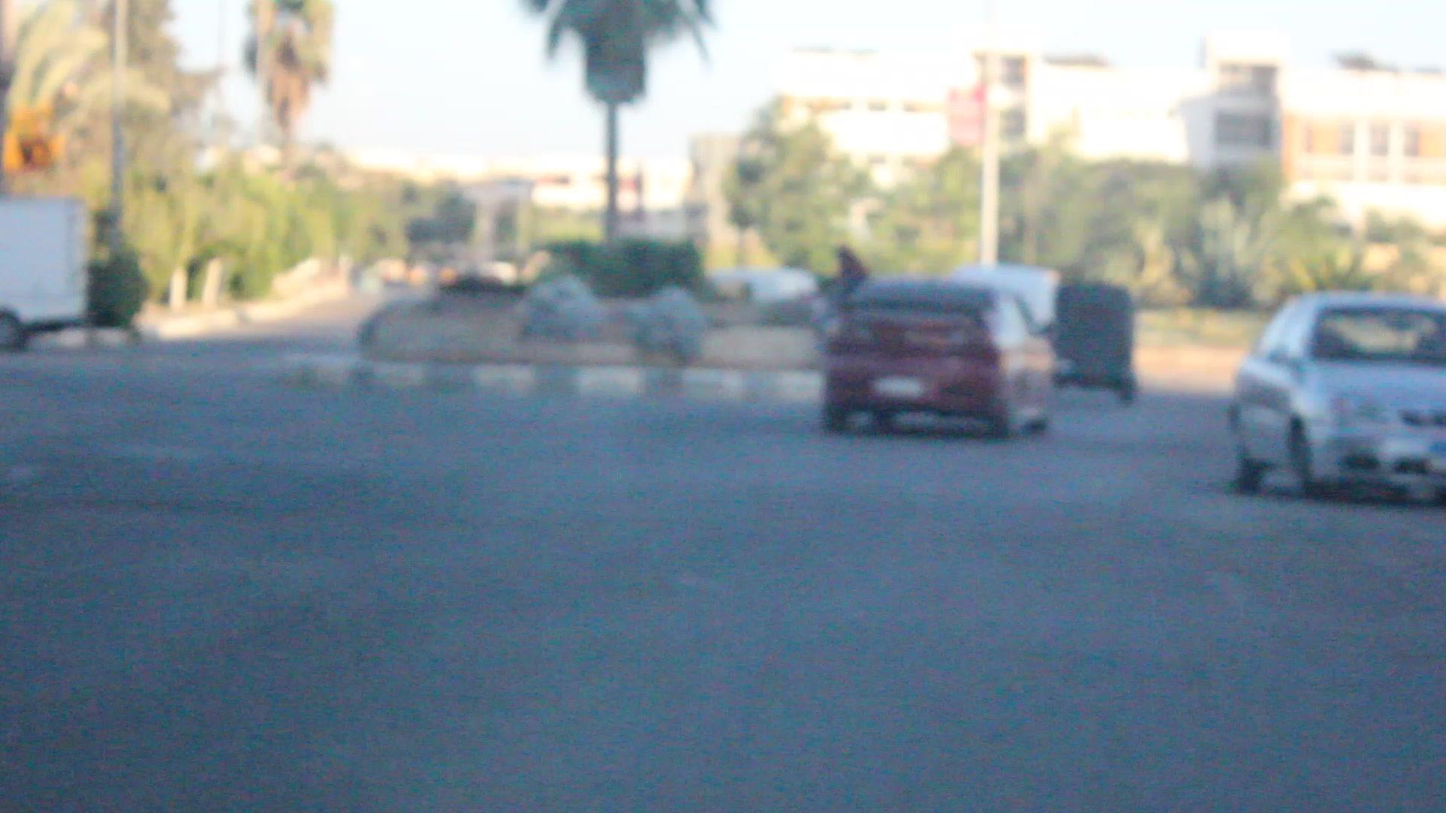Bump: (5, 452, 1445, 612)
